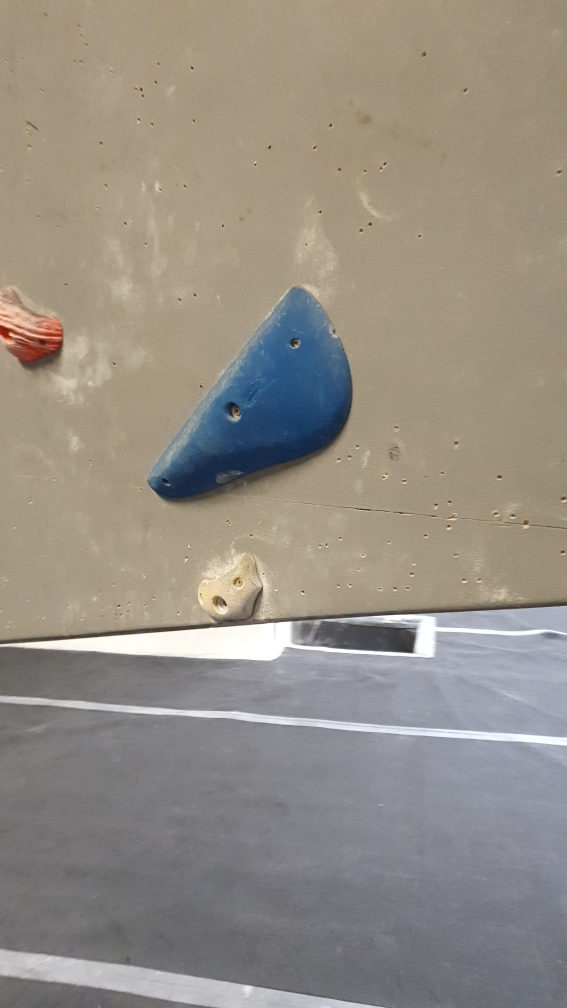Jug: (1, 279, 70, 370)
